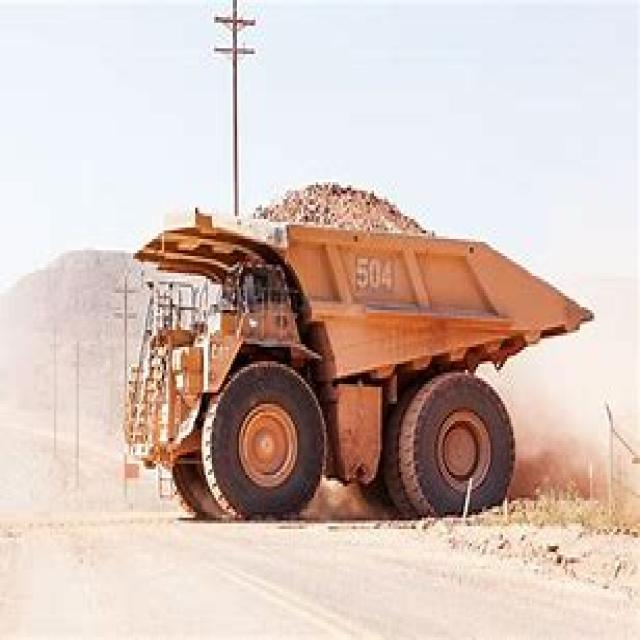dump_truck: (112, 182, 605, 529)
